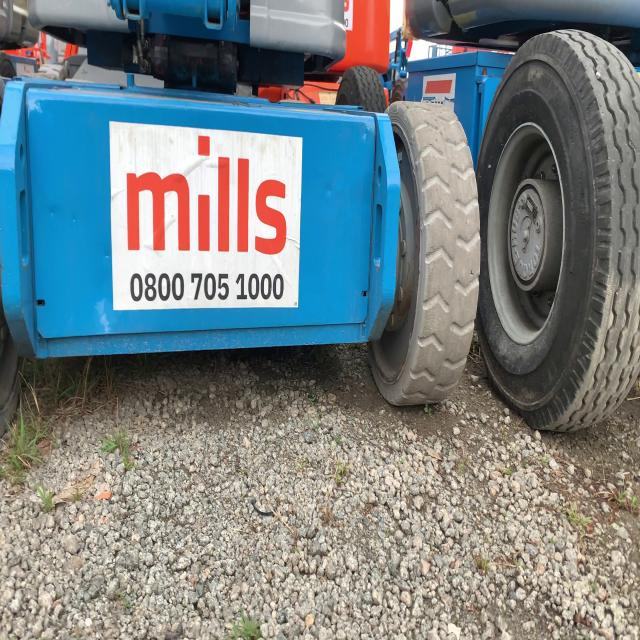Adesivos: (107, 117, 305, 314)
